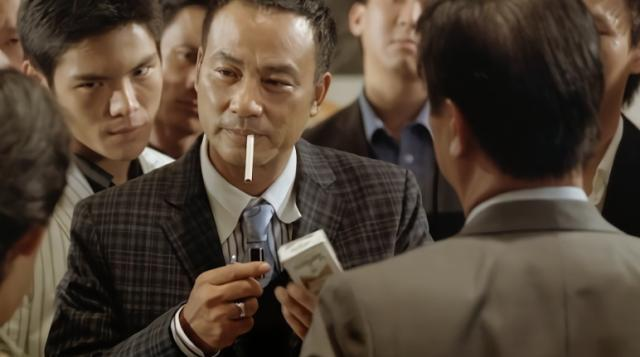SafeDriving: (67, 69, 113, 98), (256, 66, 300, 96), (205, 56, 245, 88), (126, 56, 159, 86)
Smoking: (242, 133, 258, 185)
